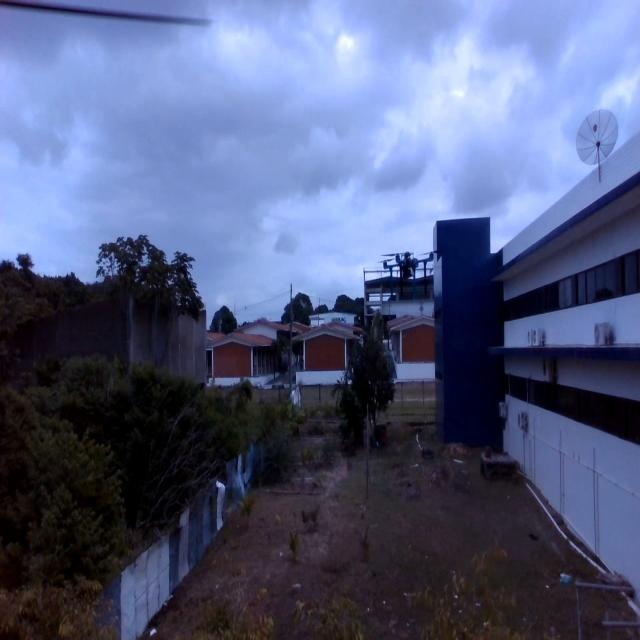-uav-: (373, 240, 445, 304)
